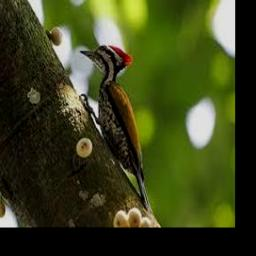Woodpecker: (79, 45, 152, 212)
